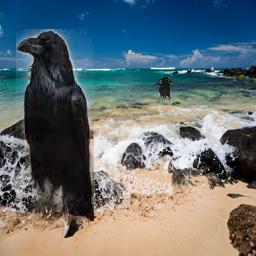Crow: (16, 29, 94, 221), (153, 73, 175, 102)
